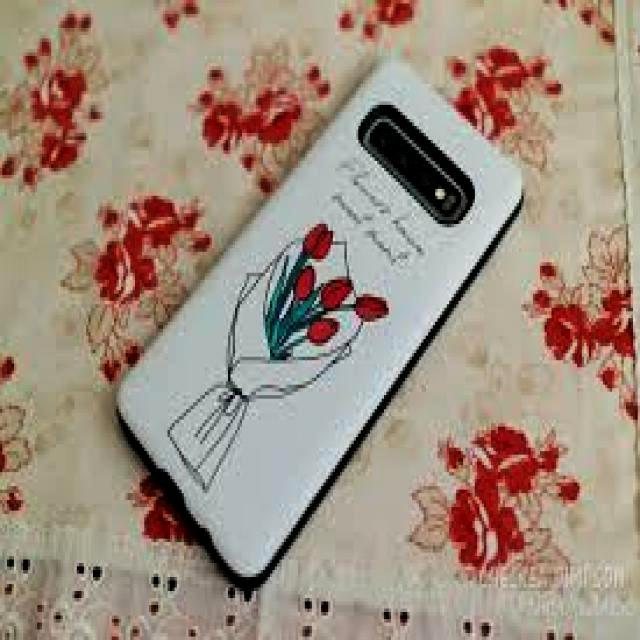lens: (356, 113, 474, 222)
phone: (113, 49, 528, 597)
